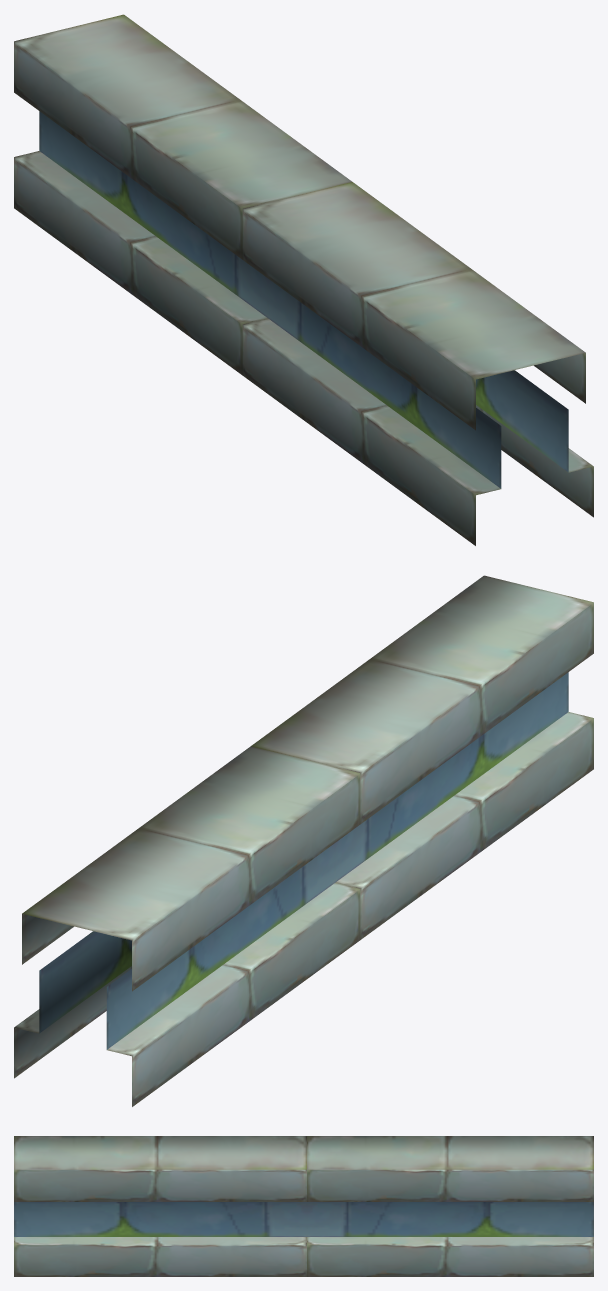
The model's file is Map_06_brick05.FBX.
The picture shows the model from 3 angles, top to bottom: view 1: azimuth 30°, elevation 25°; view 2: azimuth 150°, elevation 25°; view 3: azimuth 270°, elevation 25°; orthographic projection. The views are drawn at different scales.
Parts seen in each view (by area): view 1: Map_06_brick05; view 2: Map_06_brick05; view 3: Map_06_brick05.
Part boxes in pixels (x1=…): Map_06_brick05: x1=14, y1=14, x2=593, y2=545; Map_06_brick05: x1=14, y1=575, x2=593, y2=1106; Map_06_brick05: x1=14, y1=1136, x2=593, y2=1276.
Bounding box in the file's own units: 86.63 × 588 × 117.
